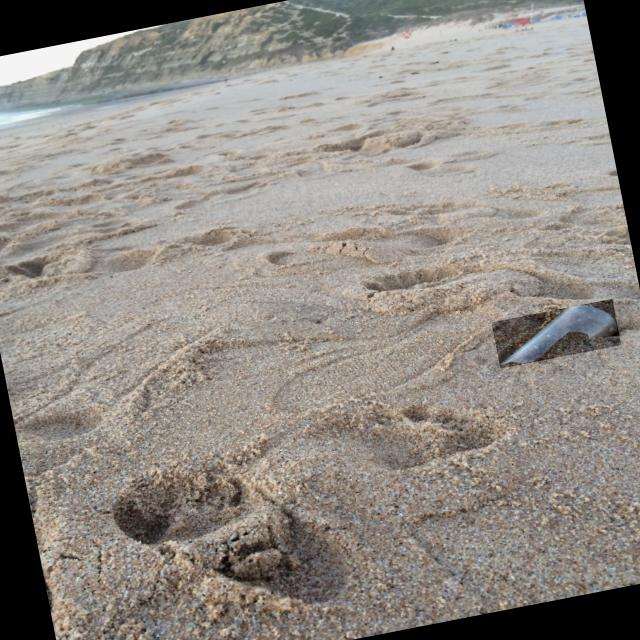Cup: (500, 305, 618, 365)
